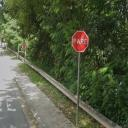Pare: (72, 30, 88, 52)
